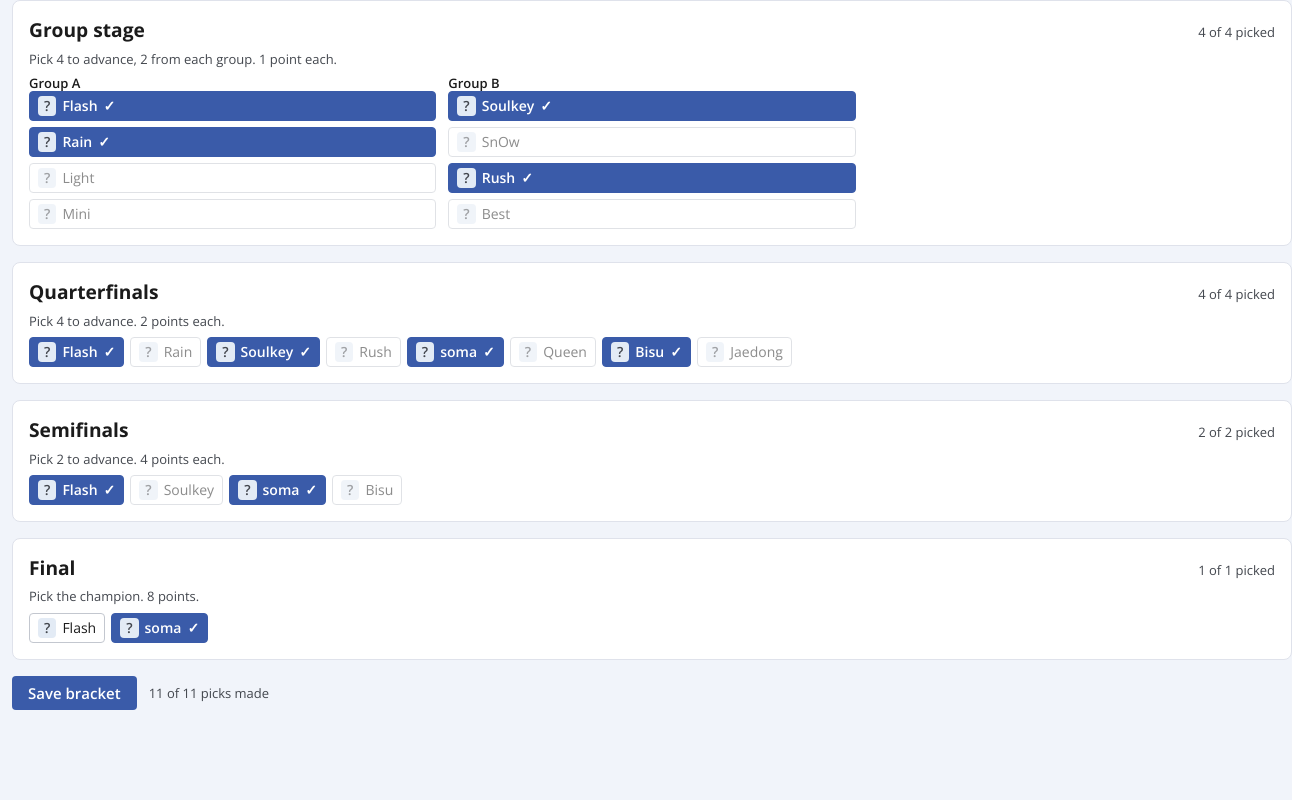
Test: BracketEditor › shows why a save was refused
The image size is (1292, 800).
Click the button "Save bracket" at (74, 693), box [12,676,137,710]
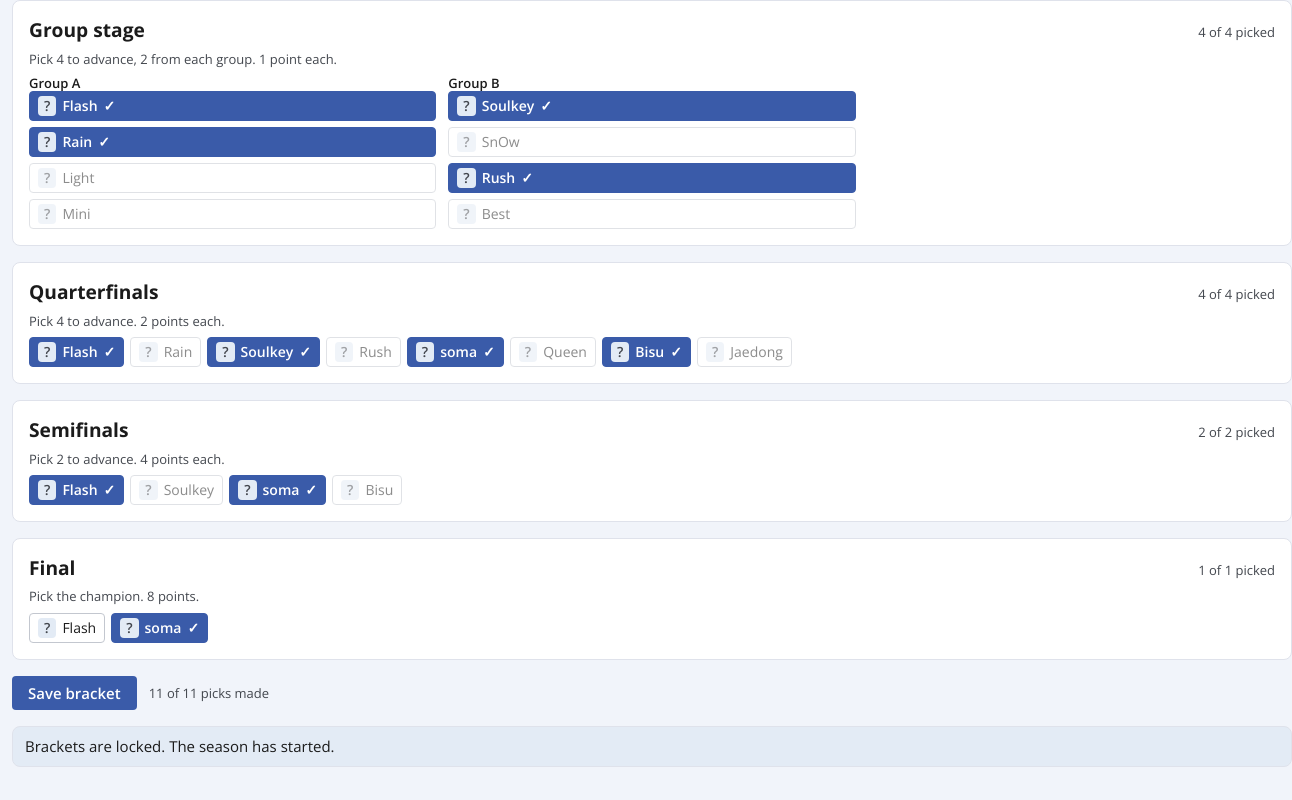
Expected: the message reads "Brackets are locked. The season has started.", [25,736,334,756]
